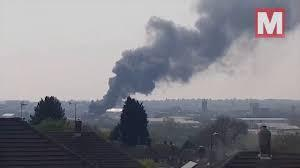smoke: (88, 0, 300, 123)
